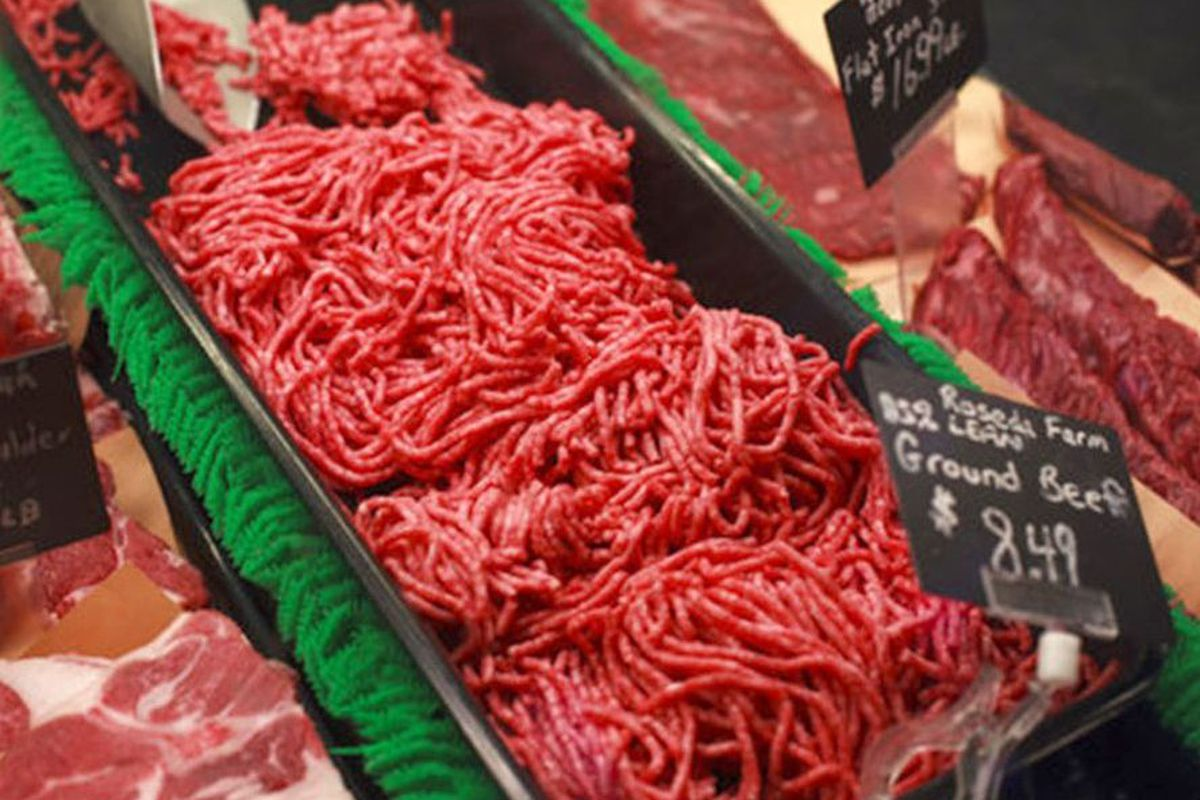ground_beef: (381, 272, 787, 568), (211, 113, 591, 422), (520, 445, 902, 731), (263, 12, 500, 116)
